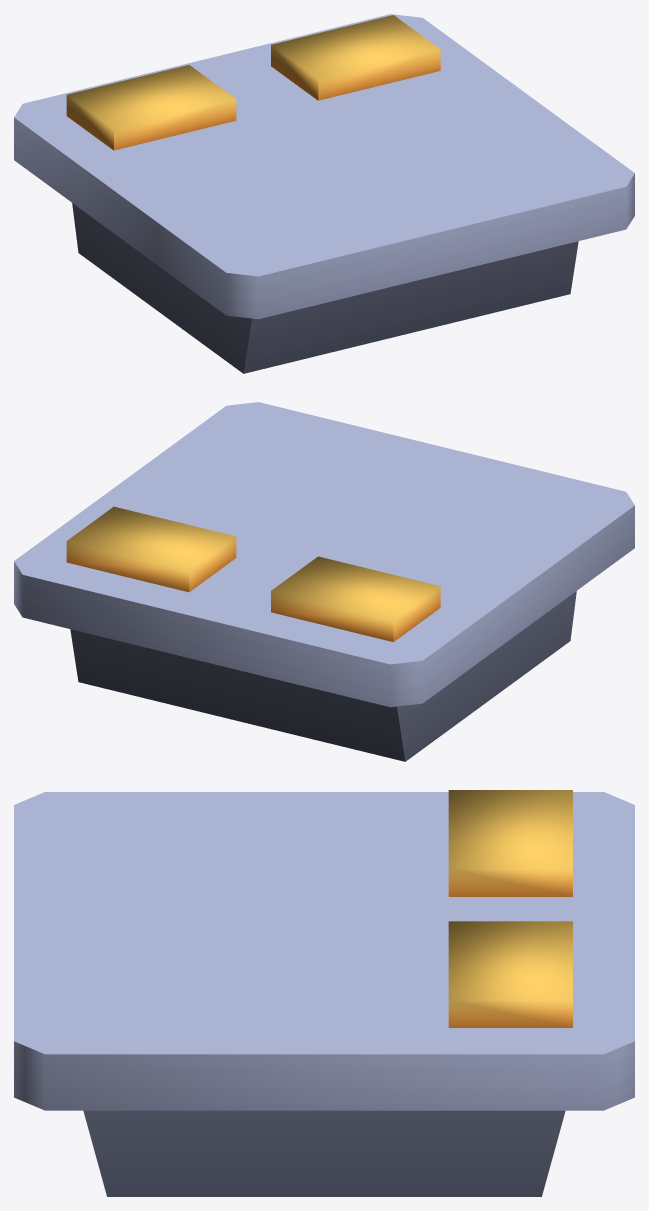
File: bed-double.glb
3 renders of one model, top to bottom at view 1: azimuth 30°, elevation 25°; view 2: azimuth 150°, elevation 25°; view 3: azimuth 270°, elevation 25°, orthographic. The views are drawn at different scales.
Parts seen in each view (by area): view 1: bed-double; view 2: bed-double; view 3: bed-double.
Boxes of the visible parts, bbox=[...] form: bed-double: bbox=[14, 14, 634, 373]; bed-double: bbox=[14, 402, 634, 761]; bed-double: bbox=[14, 790, 634, 1196].
Bounding box in the file's own units: 1 × 0.35 × 1.
1 material, 1 textured.
